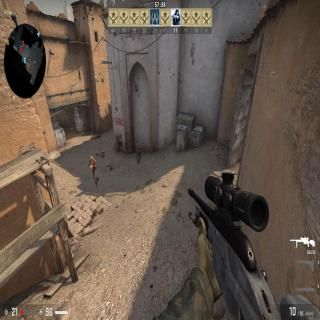T-Body: (89, 154, 98, 186), (136, 142, 141, 164)
T-Head: (90, 155, 93, 161), (137, 142, 139, 147)
